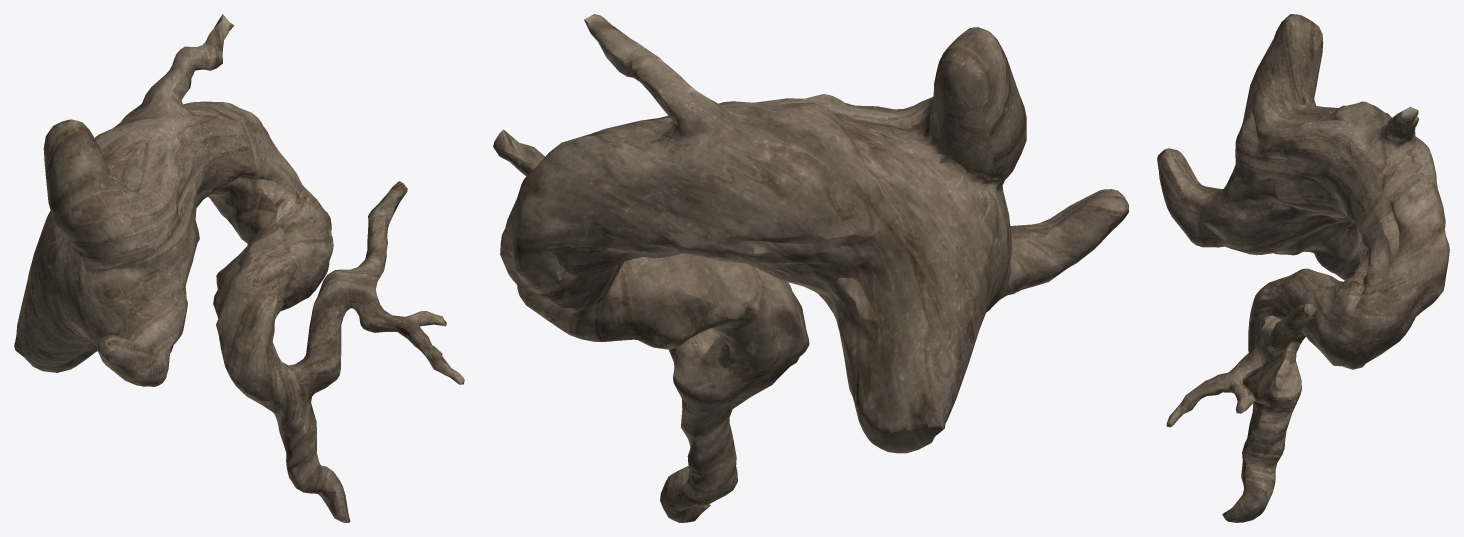
The model's file is tree hight.fbx.
3 renders of one model, left to right at view 1: azimuth 30°, elevation 25°; view 2: azimuth 150°, elevation 25°; view 3: azimuth 270°, elevation 25°, orthographic. The views are drawn at different scales.
Visible parts, largest first — view 1: tree_Low__4_; view 2: tree_Low__4_; view 3: tree_Low__4_.
Boxes of the visible parts, box(x1,y1,x2,y2) form: tree_Low__4_: box(14, 14, 464, 522); tree_Low__4_: box(493, 14, 1128, 522); tree_Low__4_: box(1157, 14, 1449, 522).
Bounding box in the file's own units: 175 × 191 × 125.
1 material, 1 textured.
